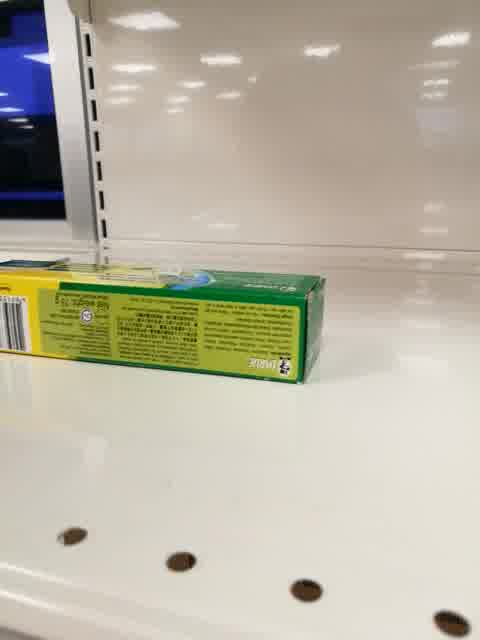toothpaste: (1, 259, 325, 384)
